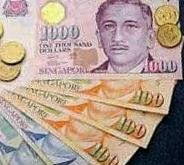1000SingaporeDollar: (0, 0, 183, 79)
